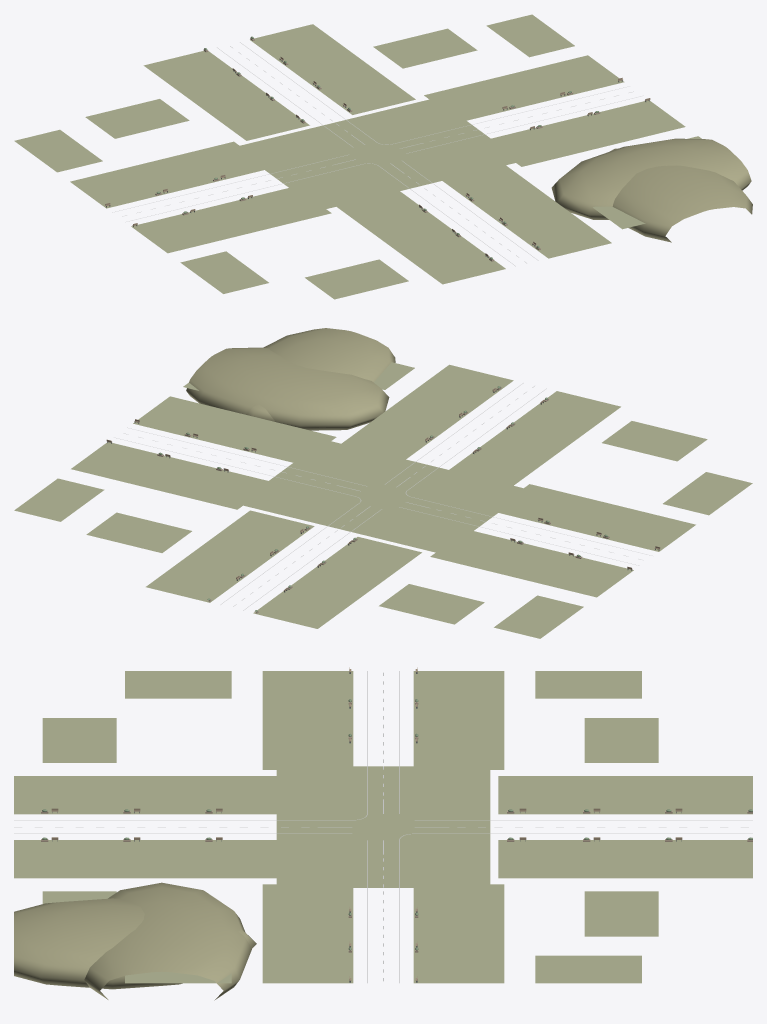
3 renders of one model, top to bottom at view 1: azimuth 30°, elevation 25°; view 2: azimuth 150°, elevation 25°; view 3: azimuth 270°, elevation 25°, orthographic. The views are drawn at different scales.
Visible parts, largest first — view 1: static; view 2: static; view 3: static.
Part boxes in pixels (box(x1,y1,x2,y2)): static: box(14, 14, 752, 299); static: box(14, 328, 752, 638); static: box(14, 667, 752, 1000).
Size of what is drawn, in the model's own units: 180 by 14.08 by 180.
